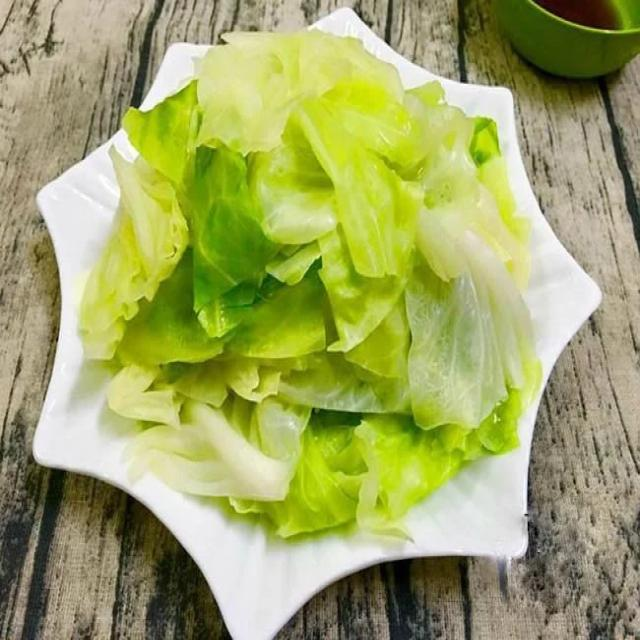bap cai luoc: (76, 30, 544, 539)
